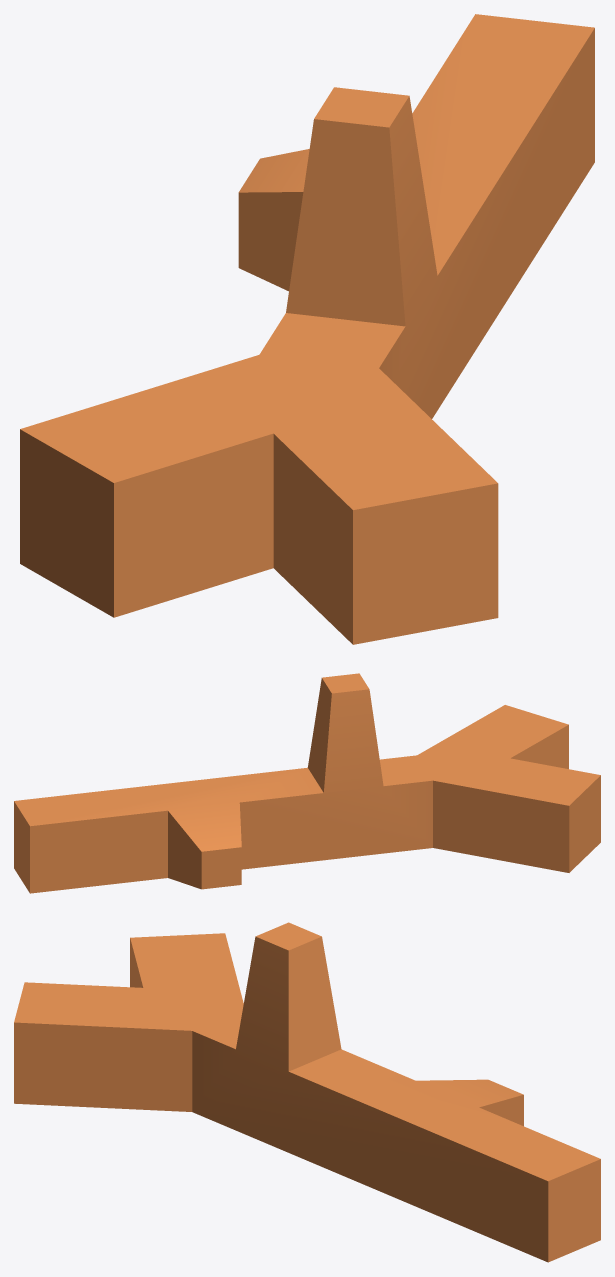
The model's file is resourceWood.fbx.
3 renders of one model, top to bottom at view 1: azimuth 30°, elevation 25°; view 2: azimuth 150°, elevation 25°; view 3: azimuth 270°, elevation 25°, orthographic. The views are drawn at different scales.
Visible parts, largest first — view 1: resourceWood; view 2: resourceWood; view 3: resourceWood.
Boxes of the visible parts, x1,y1,x2,y2 form: resourceWood: (20, 14, 594, 644); resourceWood: (14, 673, 600, 893); resourceWood: (14, 922, 600, 1262).
Size of the model in its own units: 1.71 by 0.6244 by 1.71.
